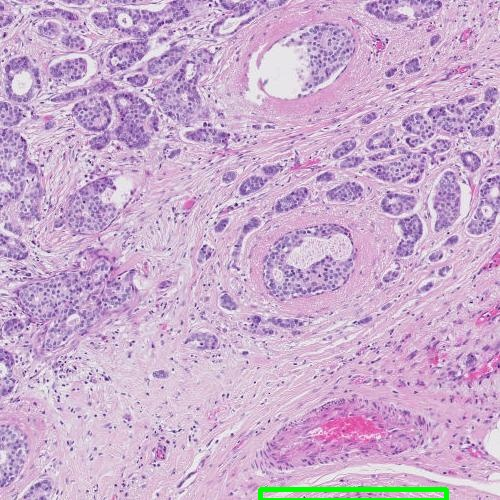DCIS: (260, 489, 446, 500)
